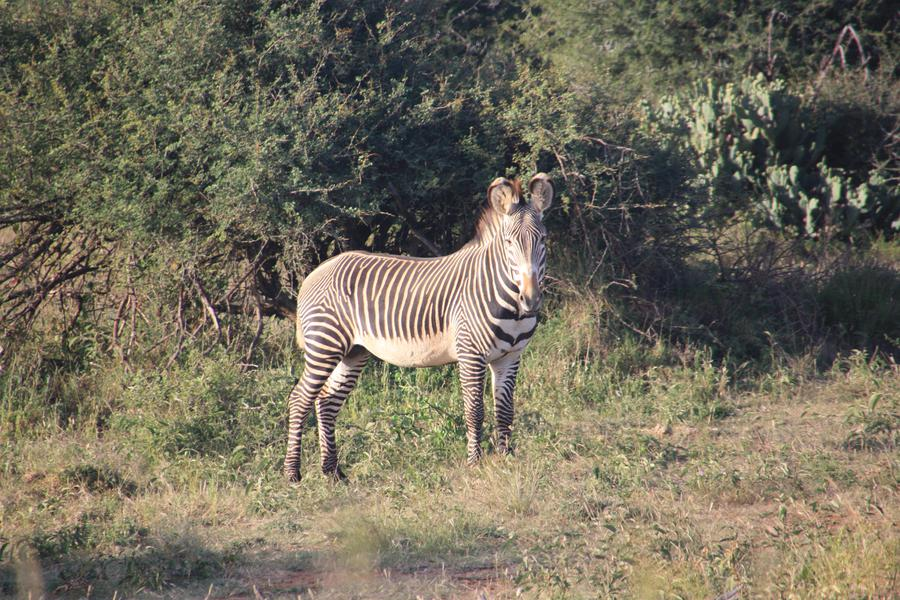zebra_grevys: (300, 248, 497, 350)
